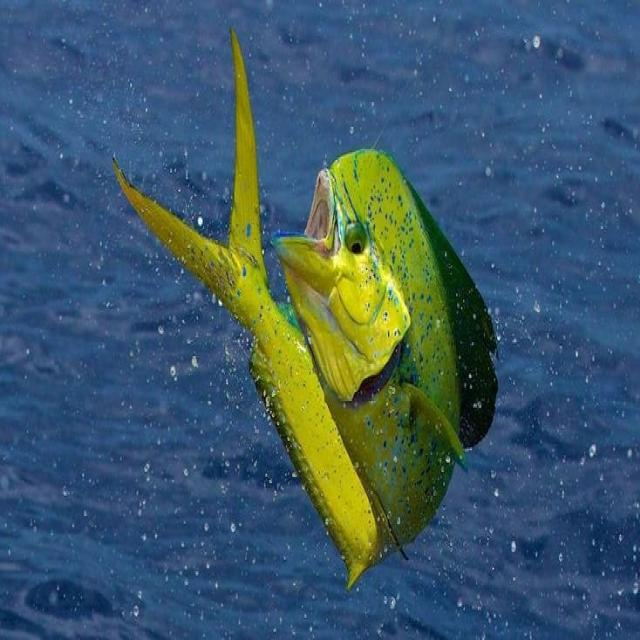Dolphin Mahi Mahi: (110, 19, 500, 591)
